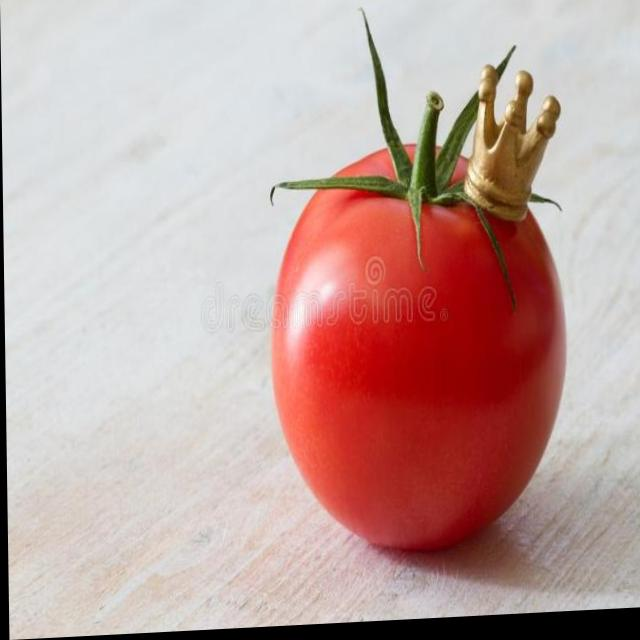kirmizi: (281, 88, 557, 569)
